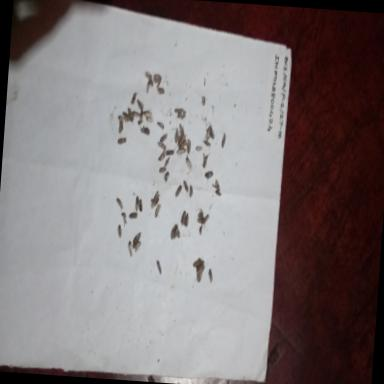pbw: (143, 69, 155, 87), (194, 206, 204, 226), (152, 72, 164, 88), (154, 258, 164, 277), (138, 124, 151, 138), (211, 176, 221, 194), (130, 229, 141, 245), (126, 104, 135, 123), (137, 106, 146, 125), (200, 152, 210, 169), (178, 138, 190, 152), (184, 156, 194, 172), (174, 145, 186, 158), (116, 134, 128, 147), (119, 211, 128, 228), (207, 126, 216, 142), (196, 222, 204, 240), (204, 168, 216, 180), (220, 131, 228, 149), (176, 109, 187, 122), (176, 134, 186, 148), (151, 190, 161, 204), (156, 140, 166, 154), (121, 110, 131, 124), (154, 202, 162, 218), (130, 90, 138, 106), (126, 242, 134, 258), (172, 224, 180, 240), (184, 140, 192, 156), (168, 224, 176, 240), (200, 92, 207, 110), (158, 148, 167, 162), (114, 197, 123, 211), (200, 137, 211, 148), (154, 118, 164, 130), (177, 122, 185, 137), (179, 209, 186, 226), (174, 185, 183, 198), (202, 212, 210, 226), (207, 267, 214, 283), (162, 169, 170, 183), (144, 78, 151, 94), (156, 86, 166, 97), (213, 188, 223, 199), (116, 222, 122, 240), (204, 124, 210, 142), (149, 199, 158, 211), (163, 148, 175, 157), (192, 256, 201, 268), (187, 183, 194, 198), (136, 99, 144, 112), (172, 127, 178, 144), (194, 144, 204, 154), (116, 114, 126, 124), (128, 210, 138, 220), (158, 134, 168, 144), (132, 240, 142, 250), (130, 110, 139, 121), (117, 120, 124, 134), (162, 156, 170, 168), (134, 194, 140, 210), (184, 213, 190, 229), (145, 116, 154, 125), (142, 111, 152, 119), (158, 166, 166, 175), (182, 180, 188, 192), (173, 107, 183, 114), (138, 197, 142, 213)
